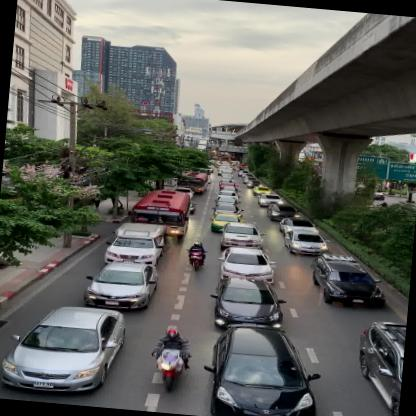bus: (132, 188, 188, 244)
car: (0, 300, 129, 399), (199, 320, 324, 415), (353, 321, 407, 415), (207, 274, 287, 336), (306, 254, 388, 310), (84, 258, 161, 314), (105, 221, 165, 268), (216, 246, 277, 284), (218, 221, 267, 252), (282, 229, 330, 258), (208, 212, 248, 236), (278, 216, 320, 236)
motorcycle: (154, 327, 196, 396), (183, 240, 206, 274)
